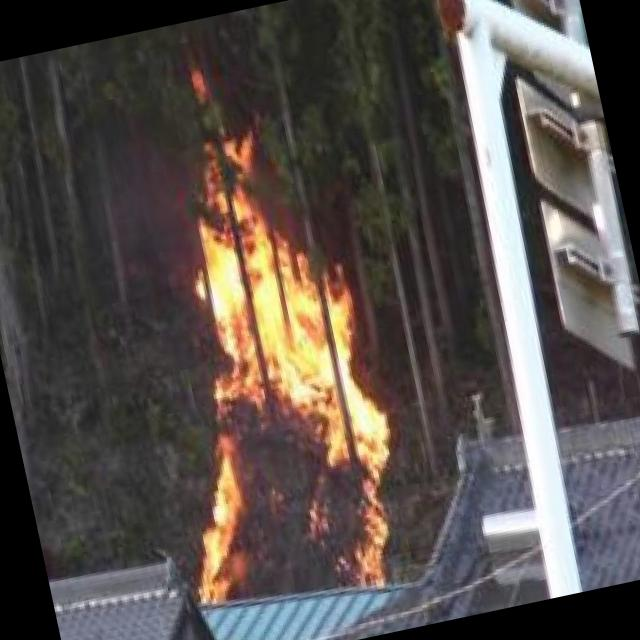Fire: (122, 130, 420, 616)
